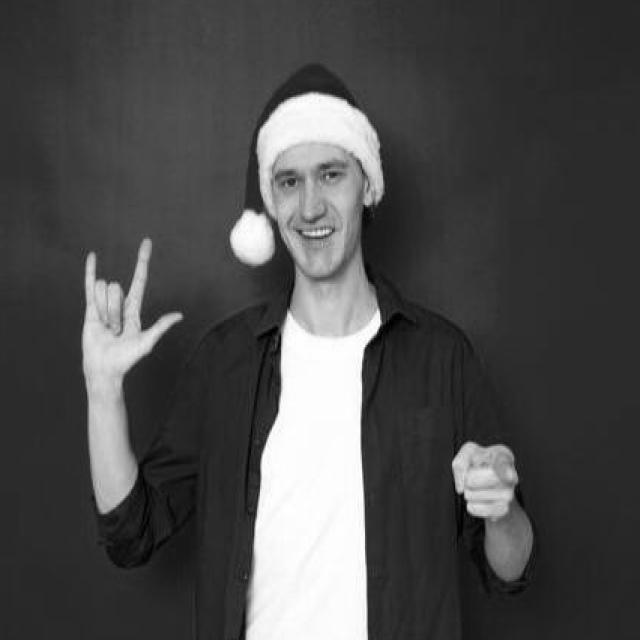i love you: (77, 232, 186, 388)
